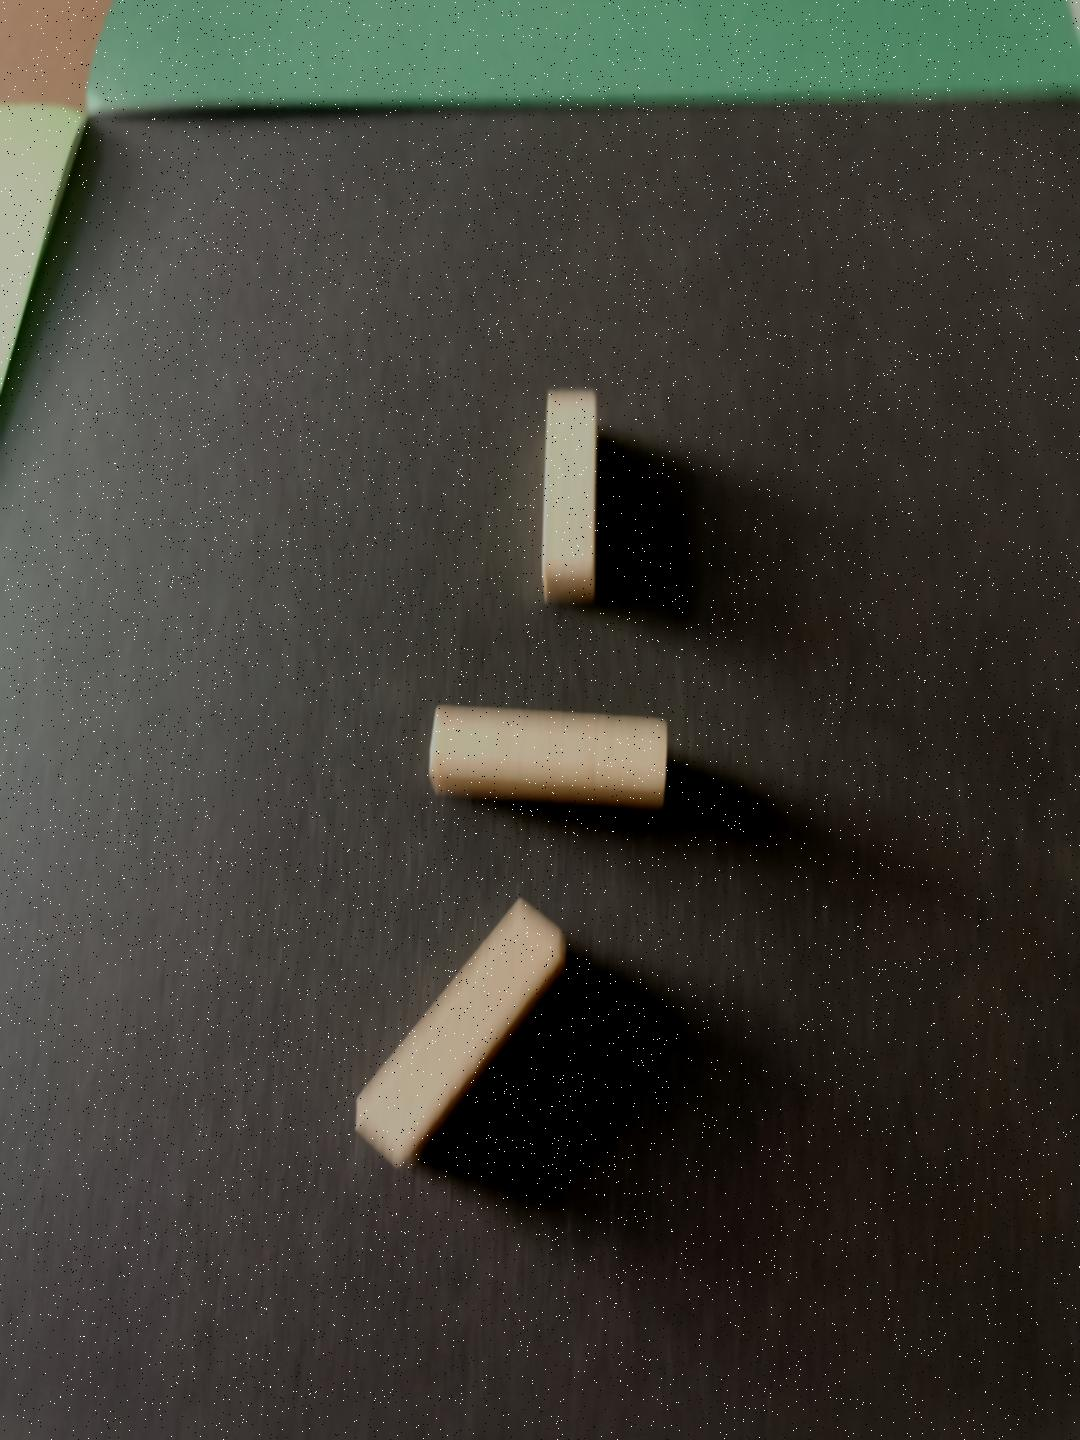jenga: (354, 900, 565, 1167), (430, 706, 667, 810), (542, 388, 597, 604)
